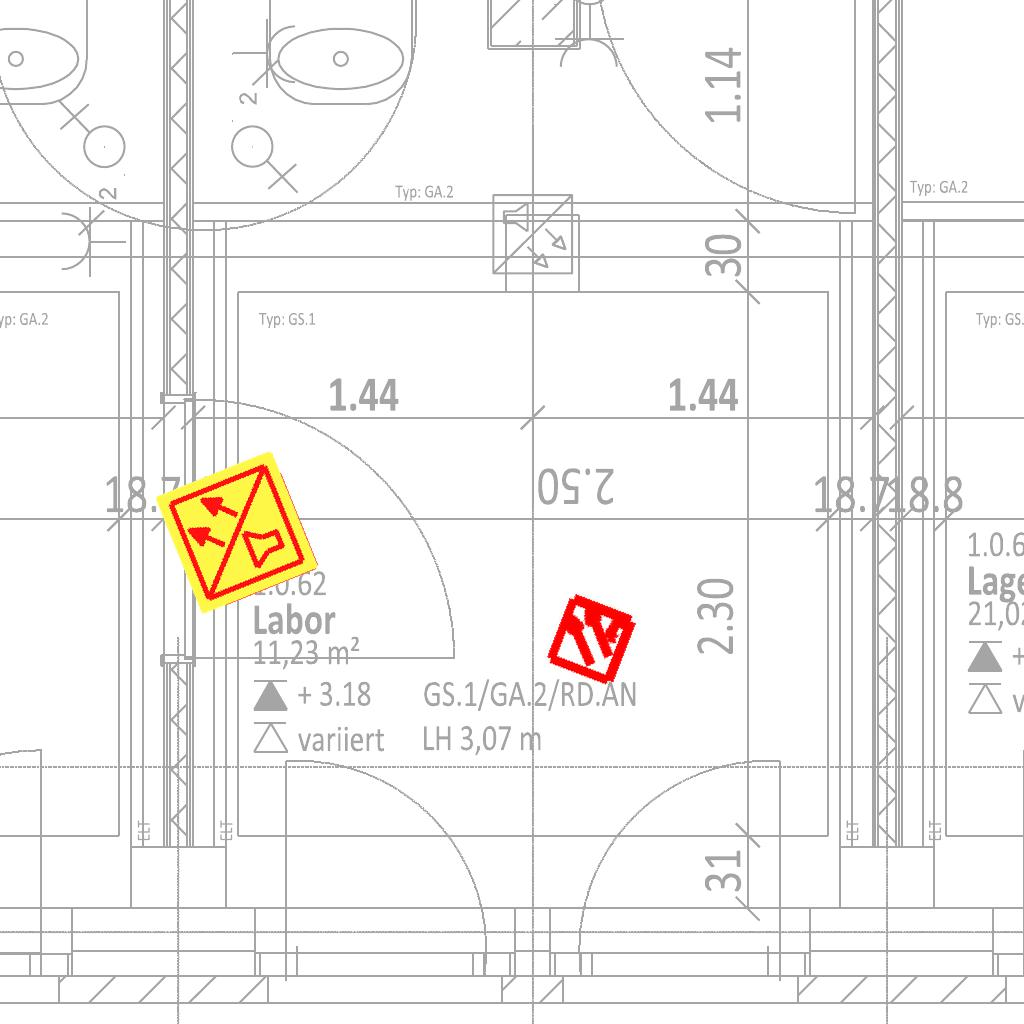OKW_Multisensormelder_(Kombination_optischer_Rauch-Kahlenmonoxid_Waerme-Melder): (151, 446, 323, 618)
OT_Multisensormelder_(Kombination_RMO_WMD): (519, 564, 666, 711)
